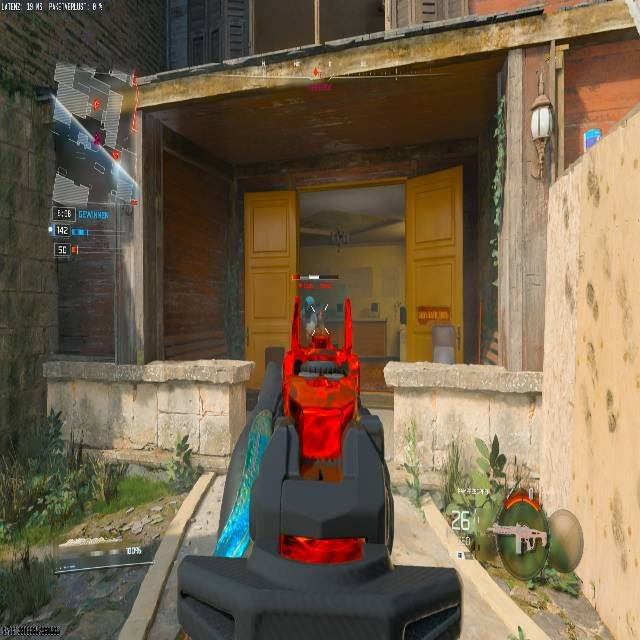player: (297, 277, 325, 330)
